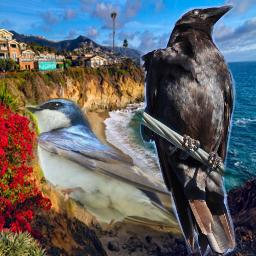Crow: (140, 2, 237, 256)
Swallow: (25, 98, 221, 244)
